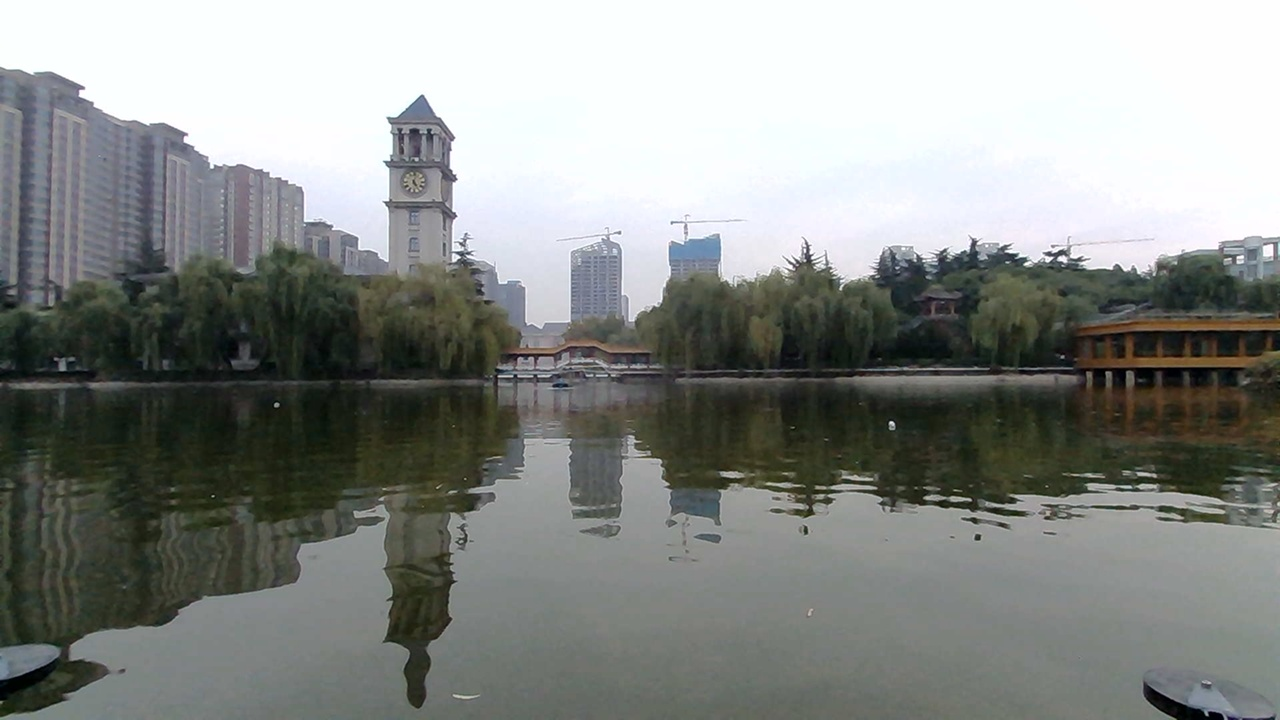bottle: (881, 408, 915, 433)
